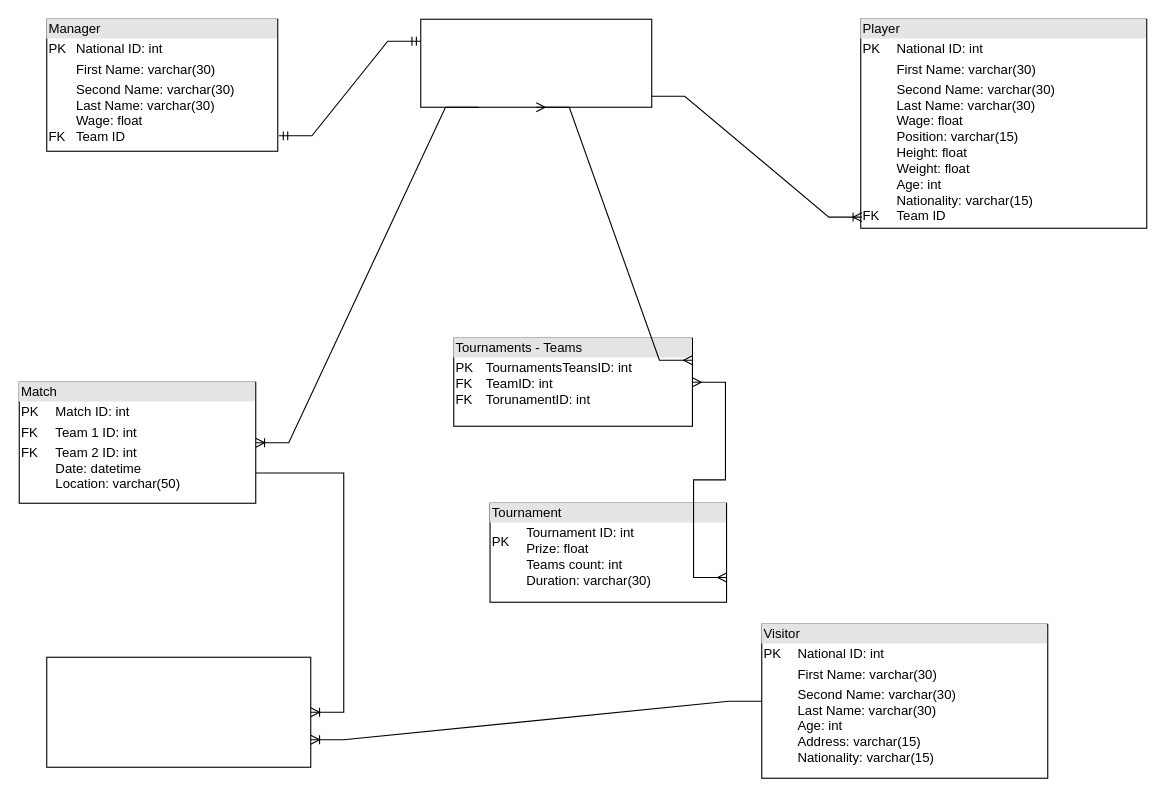
This 1166x798 diagram has some shape labels left out. Here are the shapes that lost their labels. From the top down, the box of each, then its label:
(420, 18, 652, 107): Team PK Team ID: int Team Name: varchar(50) City: varchar(30)
(46, 656, 311, 767): Ticket PK Ticket ID: int Price: float FK FK Event ID: int Customer ID: int
